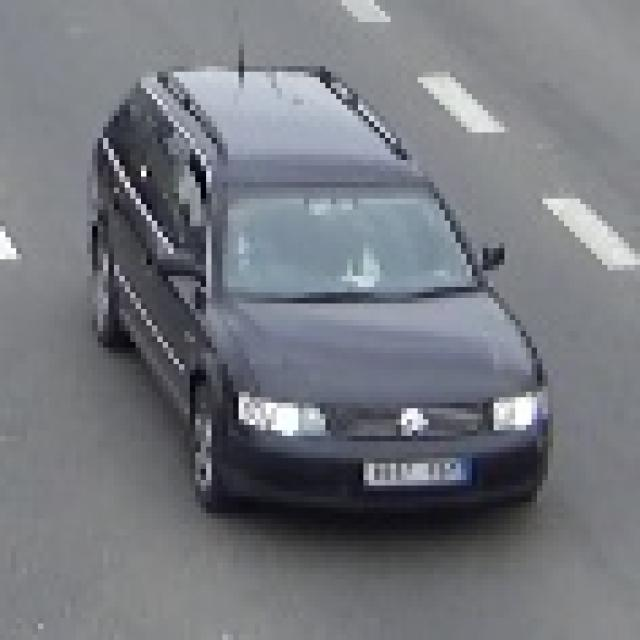SUV: (98, 77, 535, 510)
